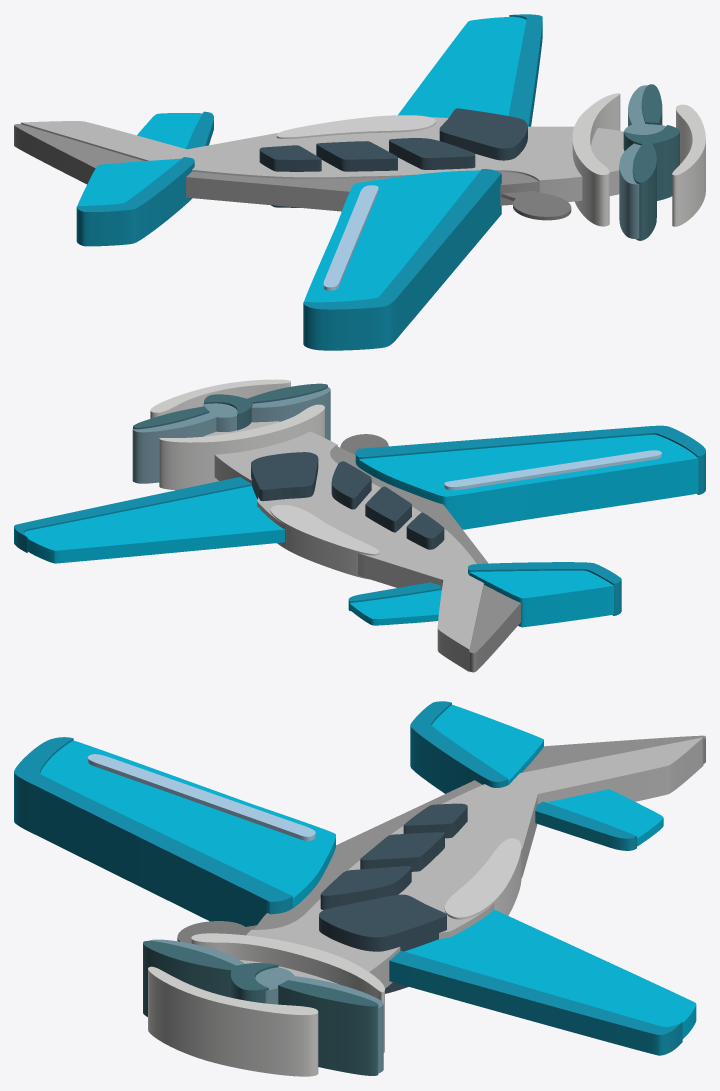
The model's file is emoji_u1f6e9.glb.
The picture shows the model from 3 angles, top to bottom: view 1: azimuth 30°, elevation 25°; view 2: azimuth 150°, elevation 25°; view 3: azimuth 270°, elevation 25°; orthographic projection. The views are drawn at different scales.
Parts seen in each view (by area): view 1: emoji_u1f6e9; view 2: emoji_u1f6e9; view 3: emoji_u1f6e9.
Boxes of the visible parts, x1,y1,x2,y2 form: emoji_u1f6e9: (14, 14, 705, 350); emoji_u1f6e9: (14, 379, 705, 672); emoji_u1f6e9: (14, 701, 705, 1076).
Bounding box in the file's own units: 0.0339 × 0.0034 × 0.0306.
